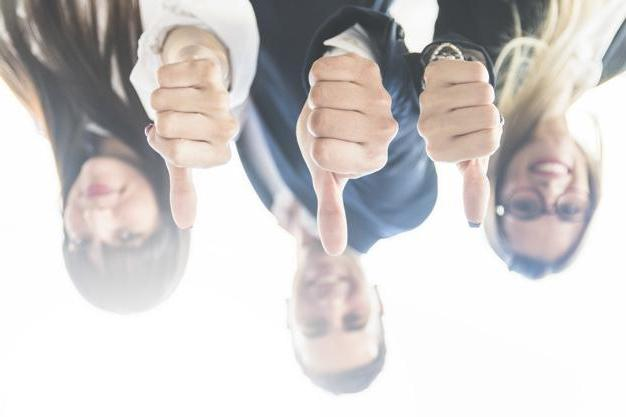thumbsdown: (306, 56, 400, 257), (144, 59, 239, 230), (418, 60, 501, 228)
